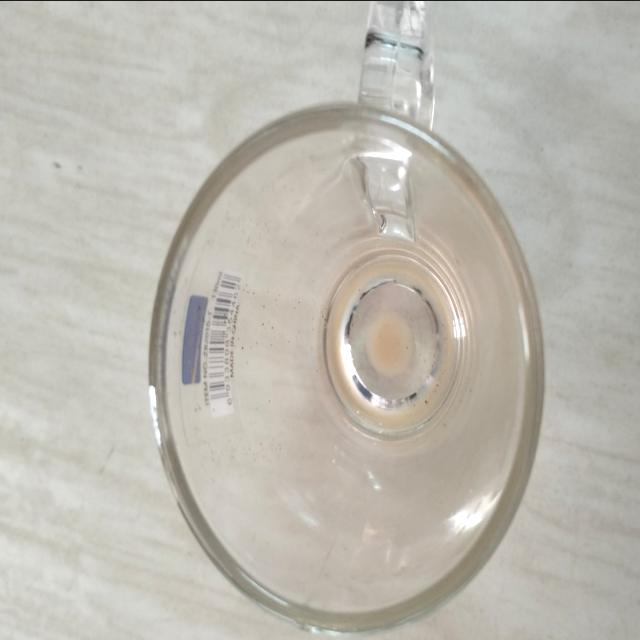glass-VX4N: (147, 0, 550, 633)
